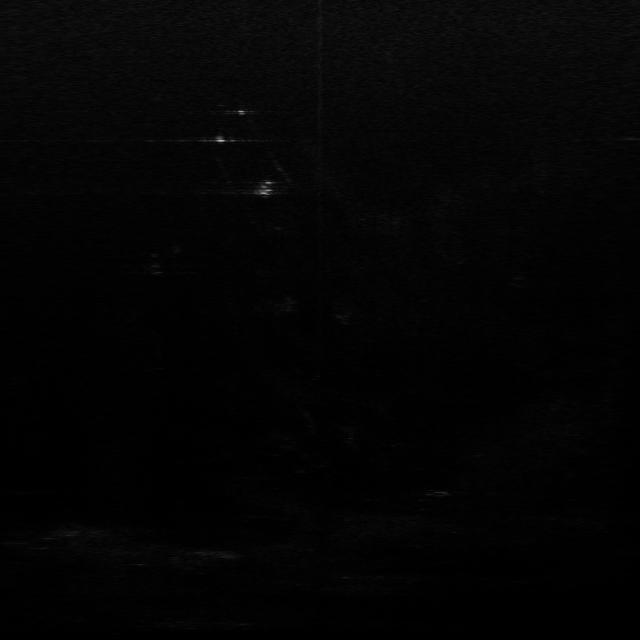rov: (250, 179, 276, 198)
